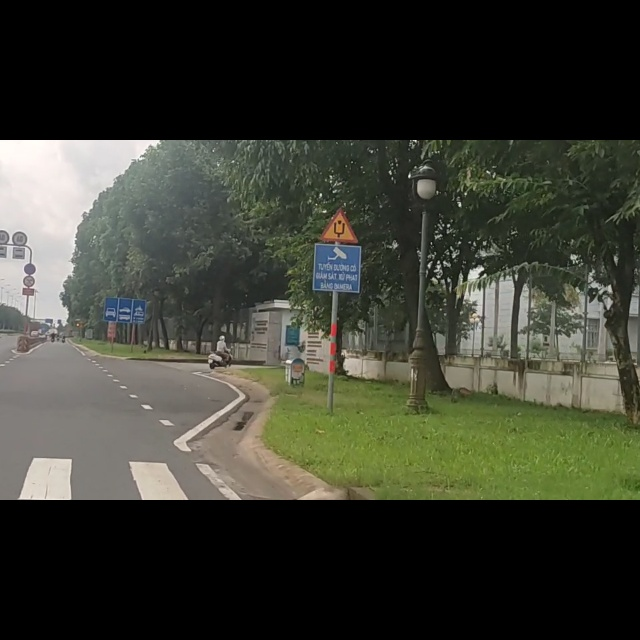bien_nguy_hiem: (319, 120, 361, 185), (103, 276, 146, 327)
